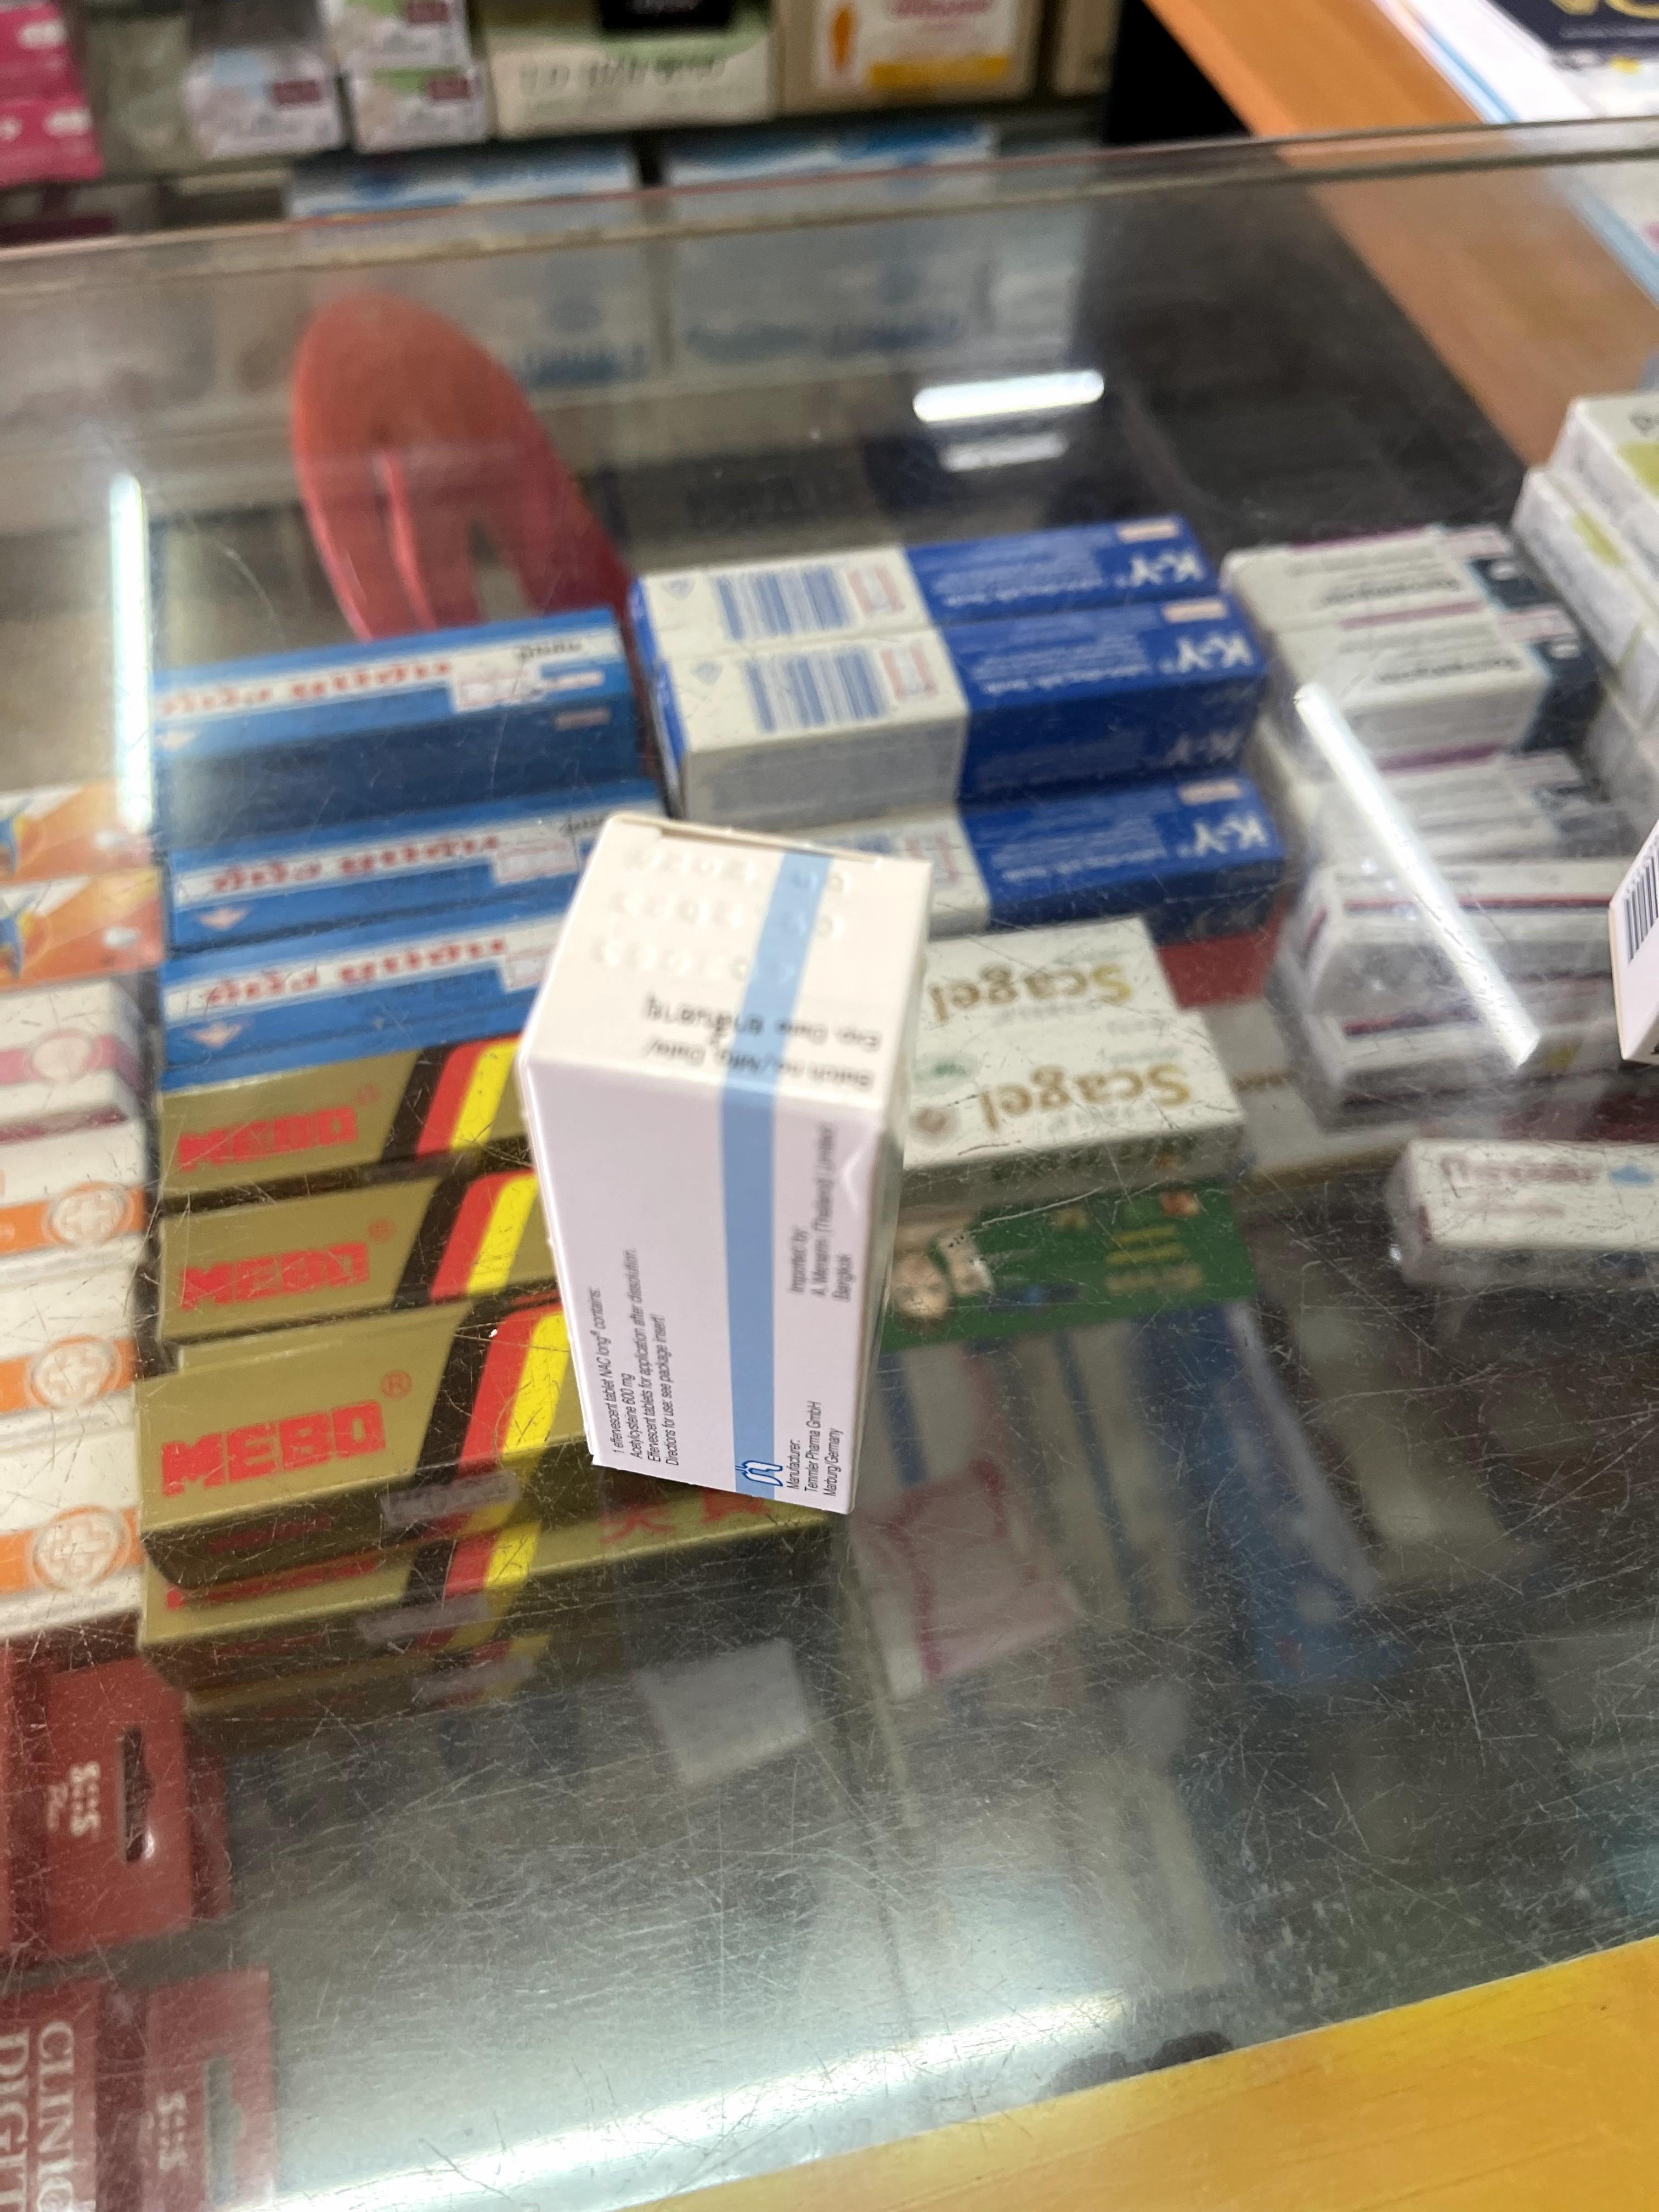Nac-Long: (521, 815, 927, 1517)
